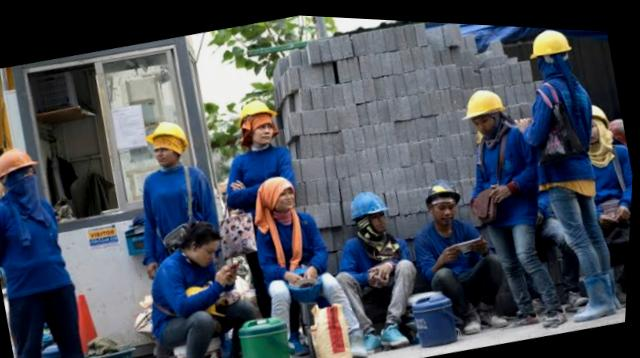helmet: (130, 102, 198, 161), (345, 176, 401, 228), (517, 21, 581, 65), (231, 91, 288, 138), (0, 135, 49, 188), (457, 79, 511, 119), (420, 174, 468, 210)
